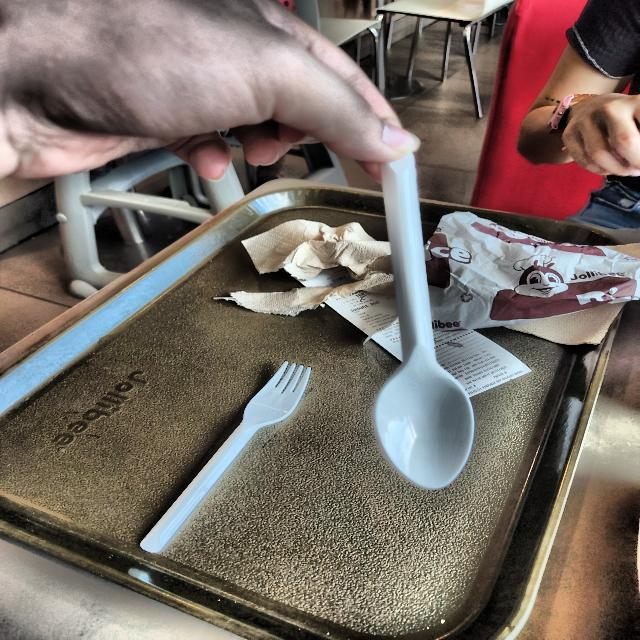plastic utensil: (375, 154, 475, 489), (140, 362, 310, 552)
